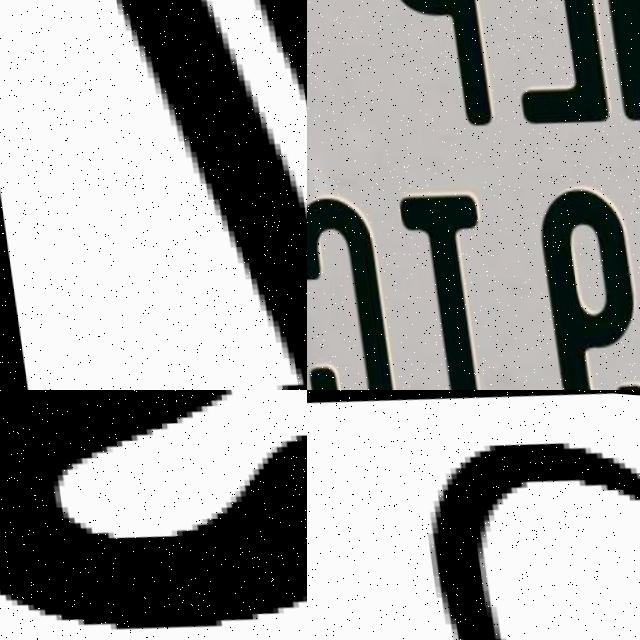2: (405, 400, 640, 640)
9: (529, 177, 640, 390)
C: (307, 184, 395, 390)
L: (482, 0, 609, 131)
N: (587, 0, 640, 123)
P: (371, 0, 488, 129)
S: (0, 390, 307, 640)
T: (392, 185, 502, 390)
U: (51, 0, 307, 390)
